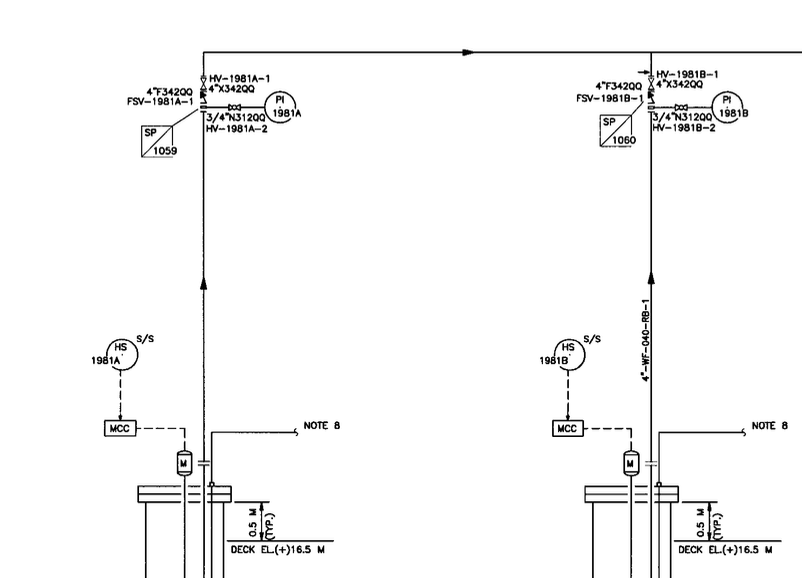Instrument-offset: (536, 335, 589, 372), (89, 336, 139, 373), (261, 91, 306, 126), (712, 89, 754, 125)
